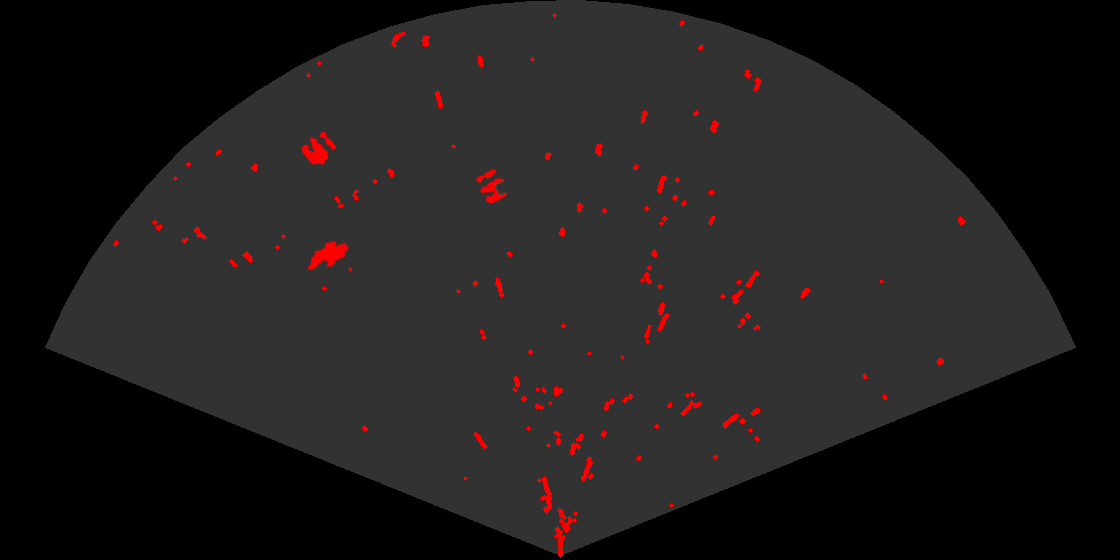AUV: (306, 239, 350, 272)
ball: (300, 130, 338, 166), (475, 167, 509, 205)
